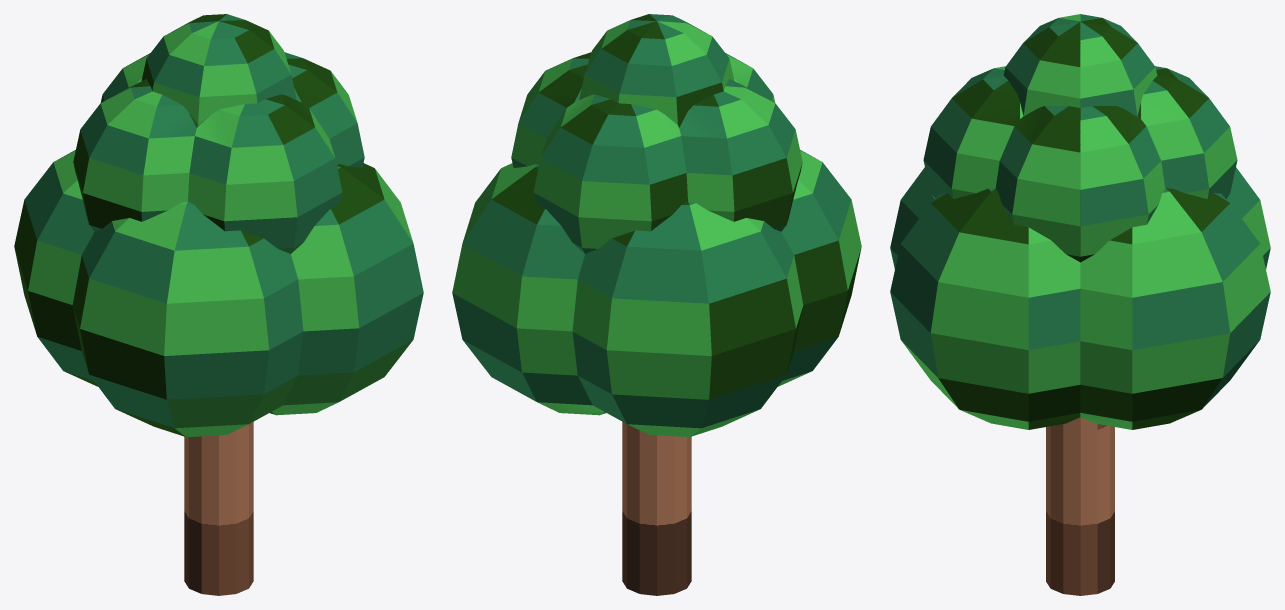
The model's file is tree.fbx.
3 views of the same model, side by side, from view 1: azimuth 30°, elevation 25°; view 2: azimuth 150°, elevation 25°; view 3: azimuth 270°, elevation 25° (orthographic).
Parts seen in each view (by area): view 1: polySurface8, pCylinder1; view 2: polySurface8, pCylinder1; view 3: polySurface8, pCylinder1.
Part boxes in pixels (x1=…): polySurface8: x1=14, y1=14, x2=423, y2=437; pCylinder1: x1=184, y1=422, x2=253, y2=595; polySurface8: x1=452, y1=14, x2=861, y2=437; pCylinder1: x1=622, y1=422, x2=691, y2=595; polySurface8: x1=890, y1=14, x2=1270, y2=429; pCylinder1: x1=1046, y1=417, x2=1114, y2=595.
Bounding box in the file's own units: 22 × 35.7 × 22.
2 materials, 2 textured.
